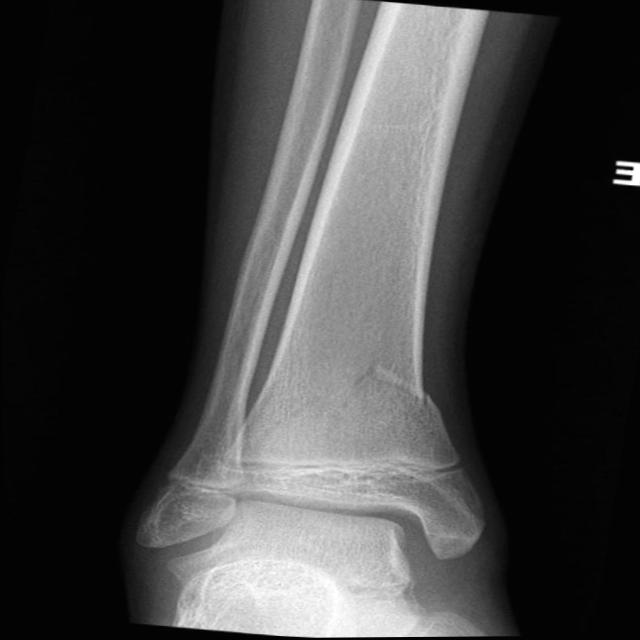Oblique Displaced: (286, 355, 464, 471)
